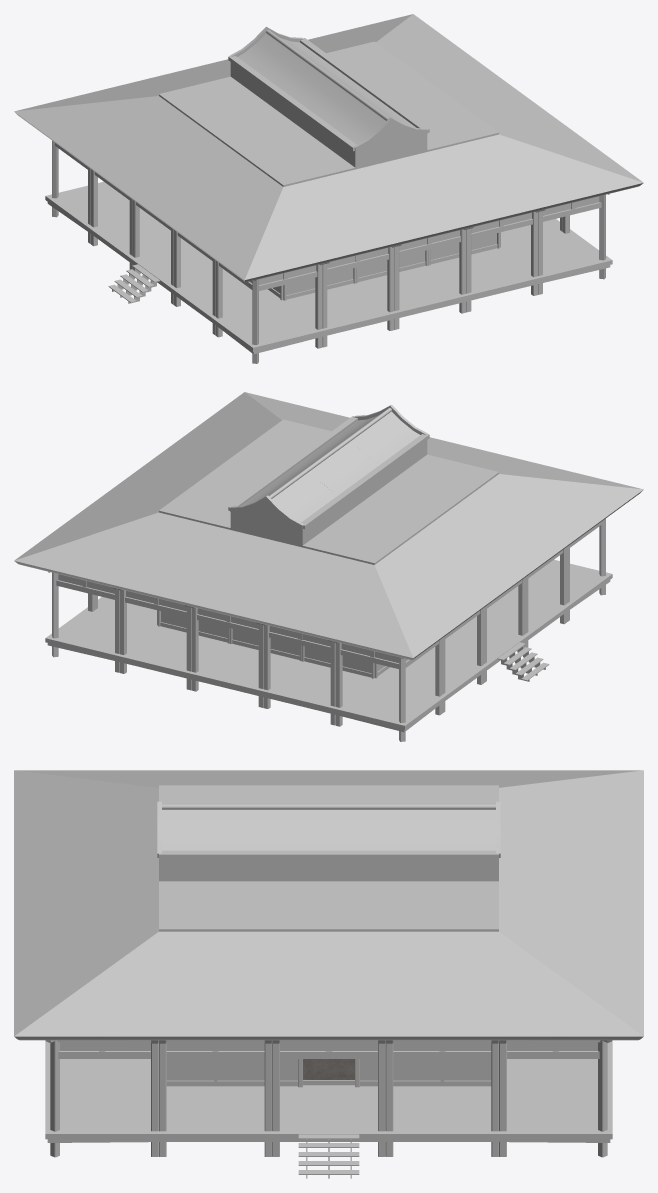
The model's file is Japanese Buildings 1.fbx.
3 renders of one model, top to bottom at view 1: azimuth 30°, elevation 25°; view 2: azimuth 150°, elevation 25°; view 3: azimuth 270°, elevation 25°, orthographic. The views are drawn at different scales.
Visible parts, largest first — view 1: Japanese_Buildings_1; view 2: Japanese_Buildings_1; view 3: Japanese_Buildings_1.
Boxes of the visible parts, x1,y1,x2,y2 form: Japanese_Buildings_1: [14, 14, 643, 363]; Japanese_Buildings_1: [14, 392, 643, 741]; Japanese_Buildings_1: [14, 770, 643, 1178].
Bounding box in the file's own units: 1164 × 463 × 1111.
